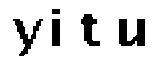i: (47, 5, 64, 52)
t: (78, 12, 103, 49)
u: (116, 17, 151, 52)
y: (10, 17, 43, 58)
